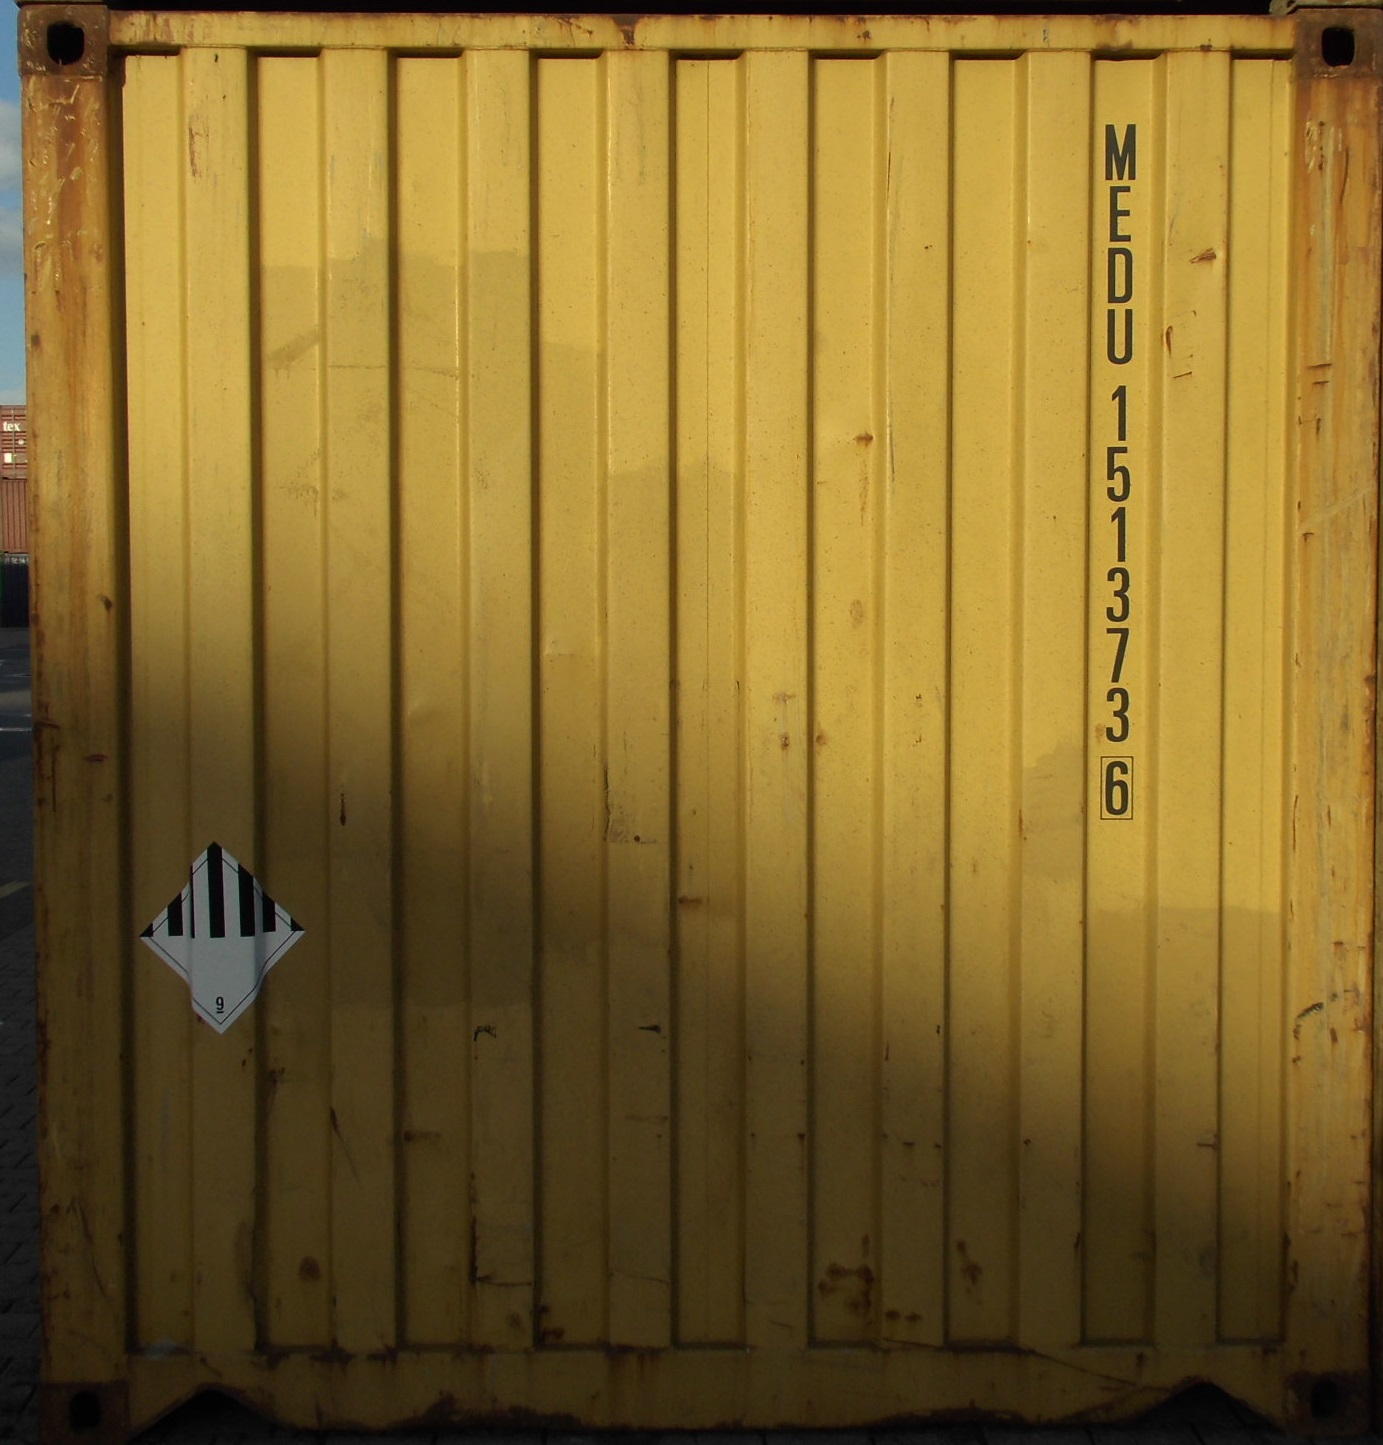container_no_door: (22, 1, 1368, 1445)
